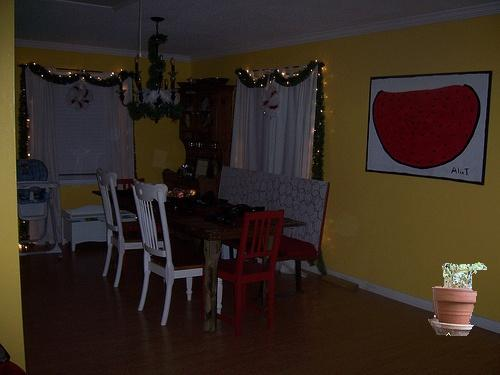tampered: (429, 263, 487, 336)
